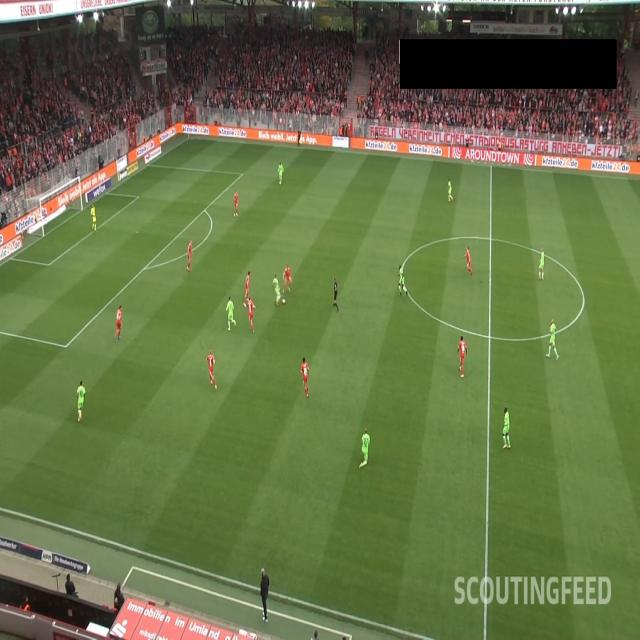ball: (282, 297, 286, 305)
